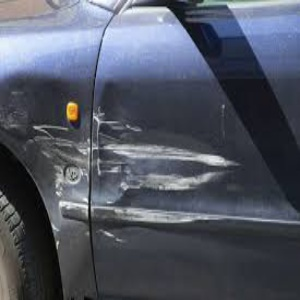door_scratch: (25, 116, 234, 241)
